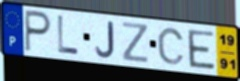C: (156, 26, 186, 66)
E: (186, 28, 217, 71)
J: (94, 20, 116, 59)
L: (56, 14, 80, 57)
P: (24, 8, 54, 55)
Z: (121, 20, 150, 65)
